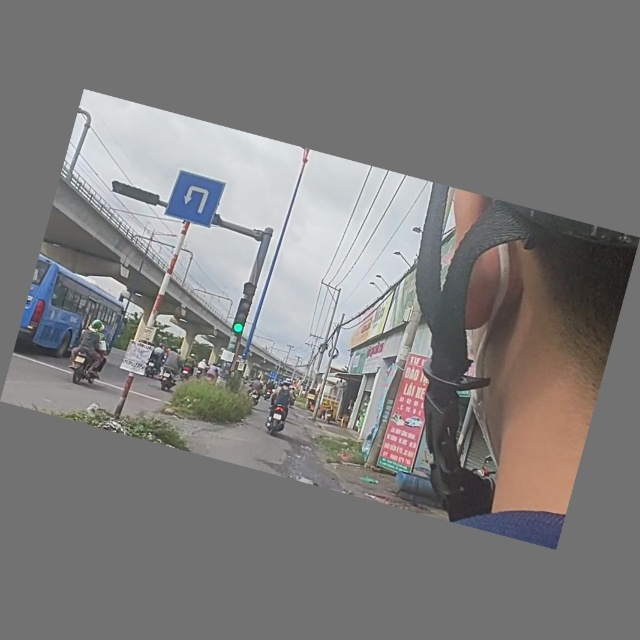I.409: (162, 164, 232, 238)
